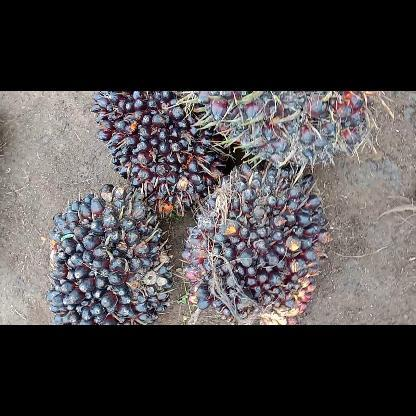TBS mentah: (180, 160, 333, 324), (84, 91, 238, 219), (45, 180, 177, 324), (192, 90, 378, 172)
